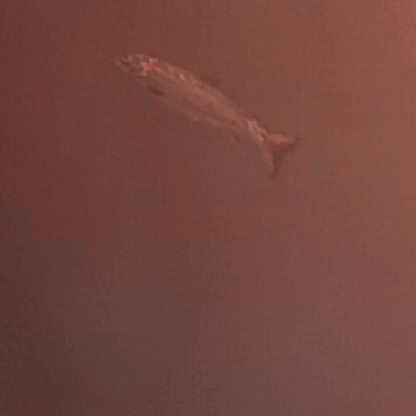salmon: (106, 43, 307, 180)
